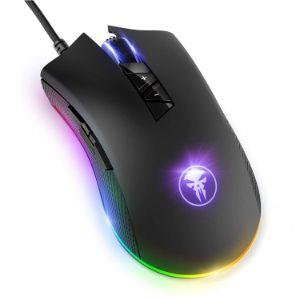mouse: (23, 11, 267, 279)
